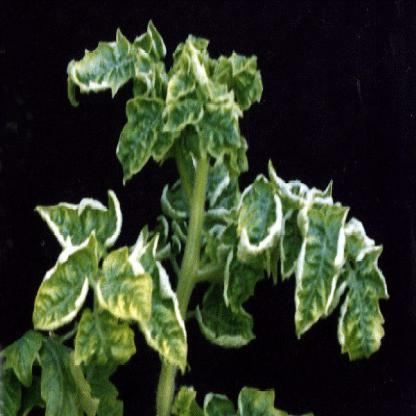tomato leaf yellow virus: (291, 192, 347, 357), (33, 234, 103, 341), (35, 180, 127, 259), (337, 234, 392, 365), (67, 40, 158, 114), (95, 245, 163, 328), (112, 86, 167, 188), (234, 167, 284, 277)
